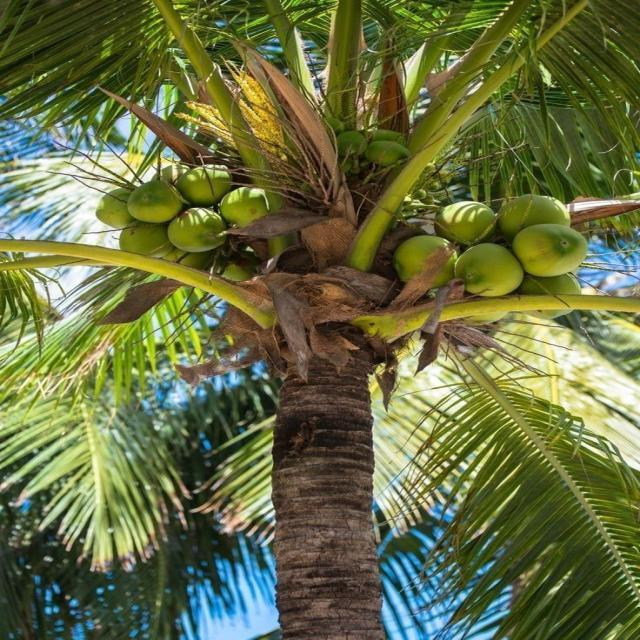Coconut-tree: (0, 5, 640, 640), (116, 89, 616, 461)
